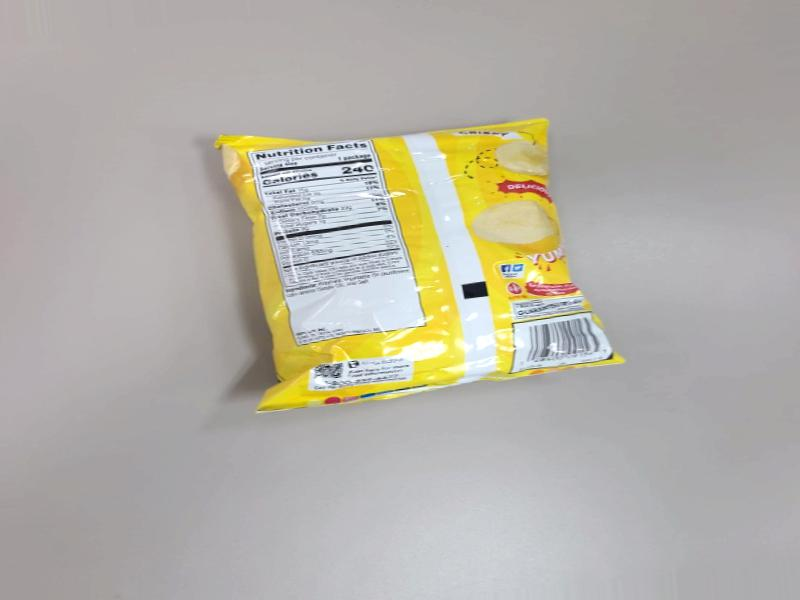lays: (246, 115, 619, 432)
